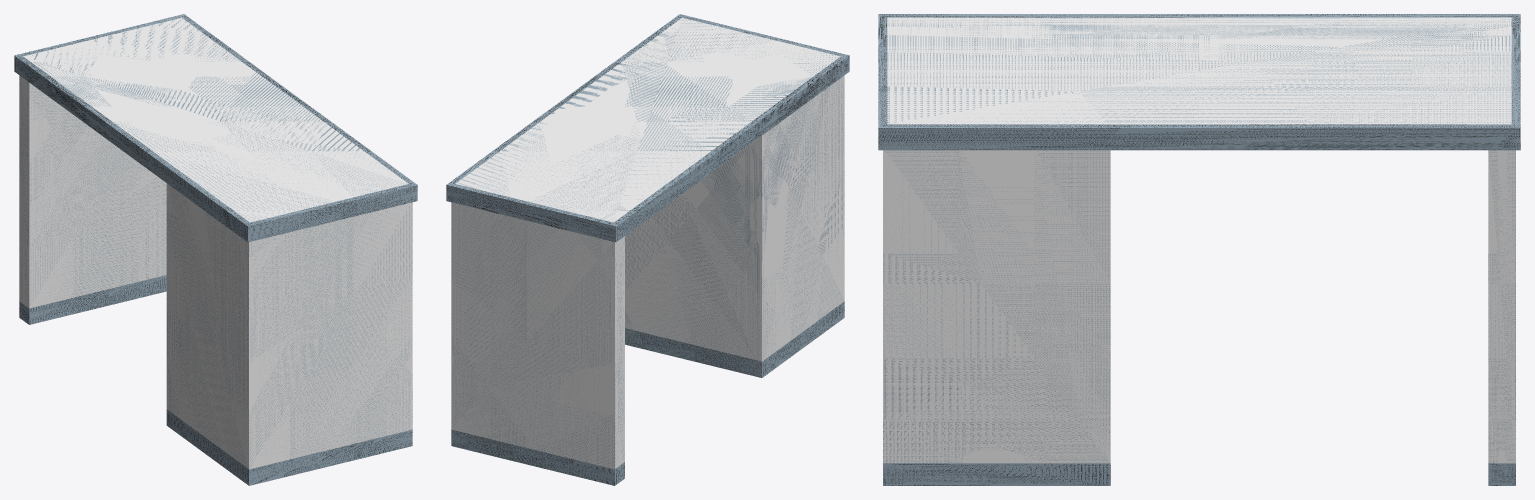
Rendered from table1.fbx.
3 views of the same model, side by side, from view 1: azimuth 30°, elevation 25°; view 2: azimuth 150°, elevation 25°; view 3: azimuth 270°, elevation 25° (orthographic). The views are drawn at different scales.
Visible parts, largest first — view 1: Group1; view 2: Group1; view 3: Group1.
Boxes of the visible parts, bbox=[...] form: Group1: bbox=[14, 14, 417, 485]; Group1: bbox=[446, 14, 849, 485]; Group1: bbox=[878, 14, 1520, 485].
Size of the model in its own units: 0.55 by 0.81 by 1.31.
